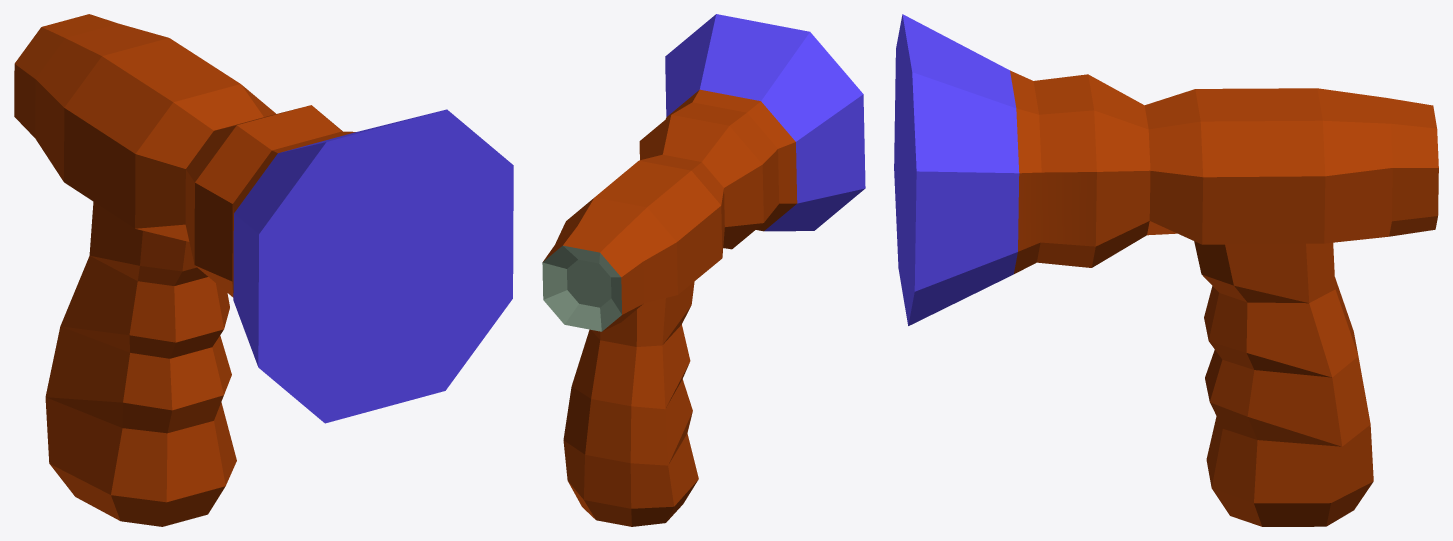
The model's file is Vacuum.fbx.
The picture shows the model from 3 angles, left to right: view 1: azimuth 30°, elevation 25°; view 2: azimuth 150°, elevation 25°; view 3: azimuth 270°, elevation 25°; orthographic projection. The views are drawn at different scales.
Visible parts, largest first — view 1: SM_Prop_Spray_Gun_01; view 2: SM_Prop_Spray_Gun_01; view 3: SM_Prop_Spray_Gun_01.
Boxes of the visible parts, left/top/right/bottom form: SM_Prop_Spray_Gun_01: left=14, top=14, right=513, bottom=526; SM_Prop_Spray_Gun_01: left=542, top=14, right=865, bottom=526; SM_Prop_Spray_Gun_01: left=894, top=14, right=1438, bottom=526.
Size of the model in its own units: 12.16 by 22.48 by 23.36.
Materials: 1 (1 with a texture image).
